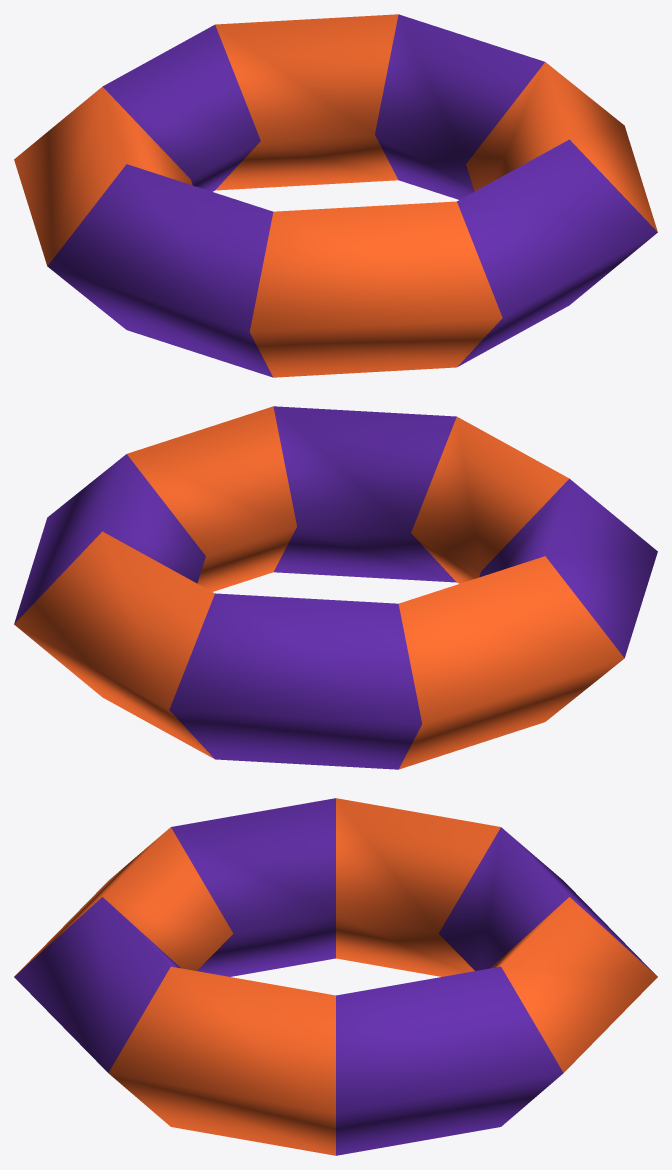
File: ETC0610037.fbx
The picture shows the model from 3 angles, top to bottom: view 1: azimuth 30°, elevation 25°; view 2: azimuth 150°, elevation 25°; view 3: azimuth 270°, elevation 25°; orthographic projection. The views are drawn at different scales.
Parts seen in each view (by area): view 1: smETC0610037; view 2: smETC0610037; view 3: smETC0610037.
Boxes of the visible parts, x1,y1,x2,y2 form: smETC0610037: (14,14,657,377); smETC0610037: (14,406,657,769); smETC0610037: (14,798,657,1155).
Size of the model in its own units: 126 by 34.73 by 126.
1 material, 1 textured.
